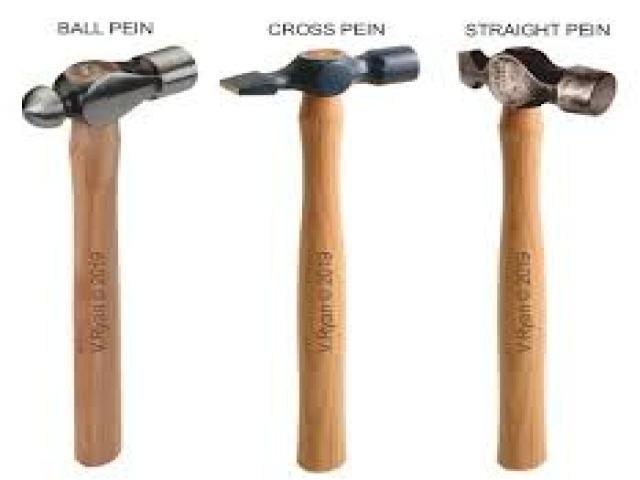Hammer: (220, 46, 419, 471), (22, 46, 195, 466), (459, 47, 615, 470)
